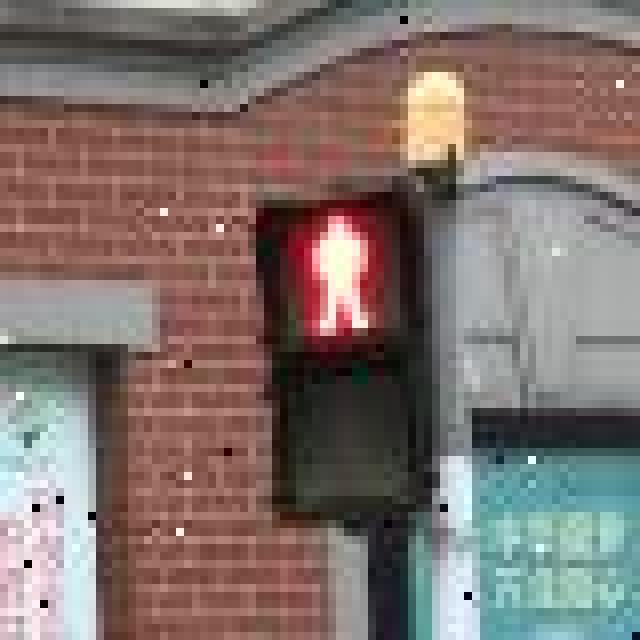redlight: (240, 176, 448, 520)
